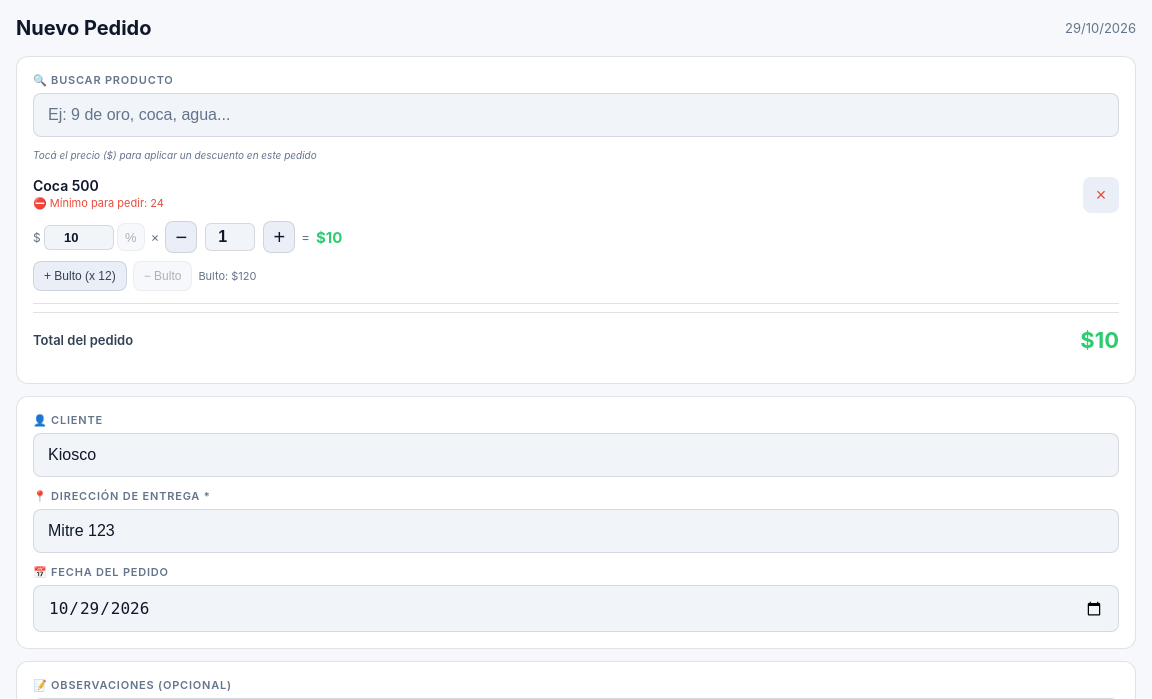
Test case: REQ-BUL Nuevo Pedido › AC-BUL-6 AC-MIN-1 AC-SST-1 el error de mínimo y el aviso de stock siguen la cantidad resultante
Expected: the message with test id "error-minimo" shows "Mínimo para pedir: 24", [50,196,164,210]
Click the button with test id "bulto-mas".
click(80, 276)  # box [33,261,127,291]
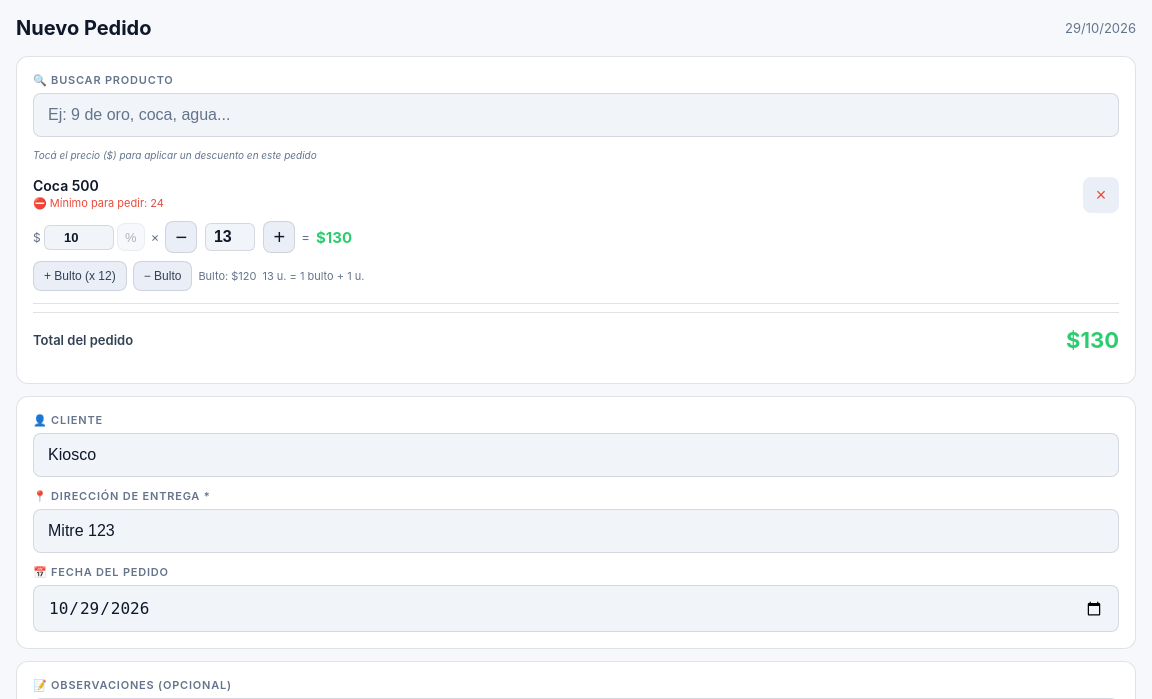
Click the button with test id "bulto-mas".
click(80, 276)  # box [33,261,127,291]
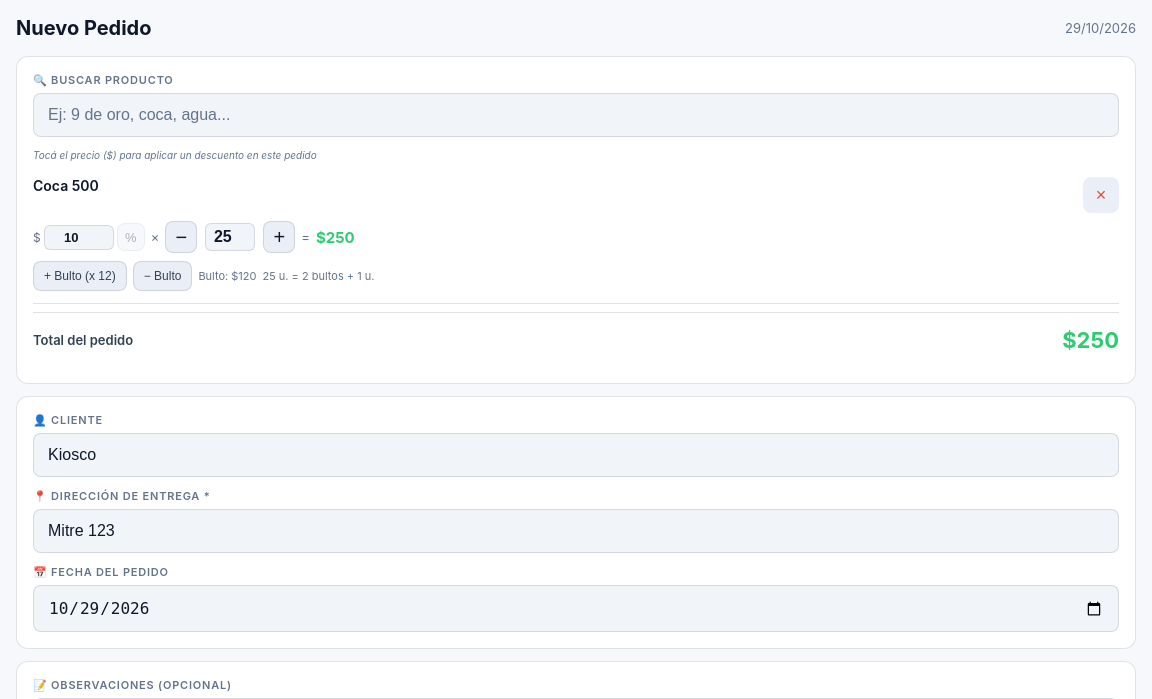
Now the 2nd number field holds "25", box [205,223,255,251]
Now the message with test id "error-minimo" is gone
Click the button with test id "bulto-mas".
click(80, 276)  # box [33,261,127,291]
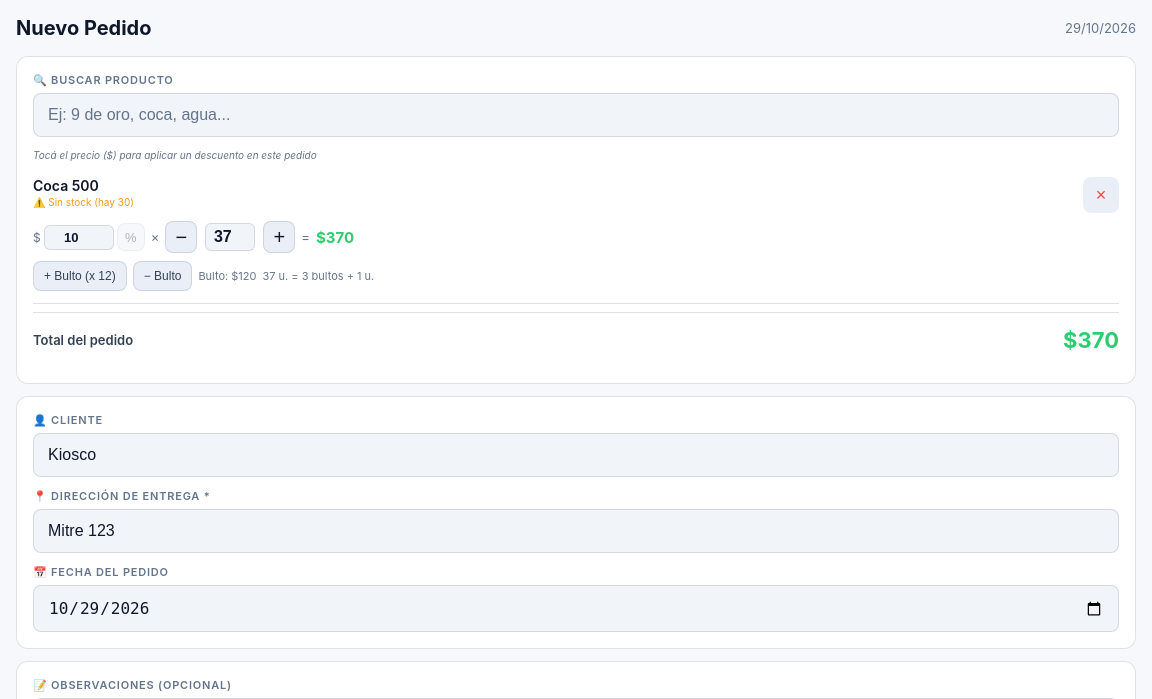
Now the 2nd number field holds "37", box [205,223,255,251]
Now the text with test id "aviso-stock" shows "Sin stock (hay 30)", box [48,196,134,208]
